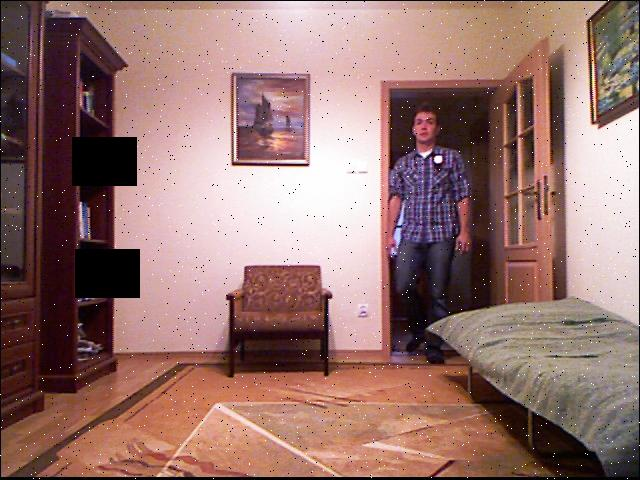walking: (381, 98, 484, 369)
